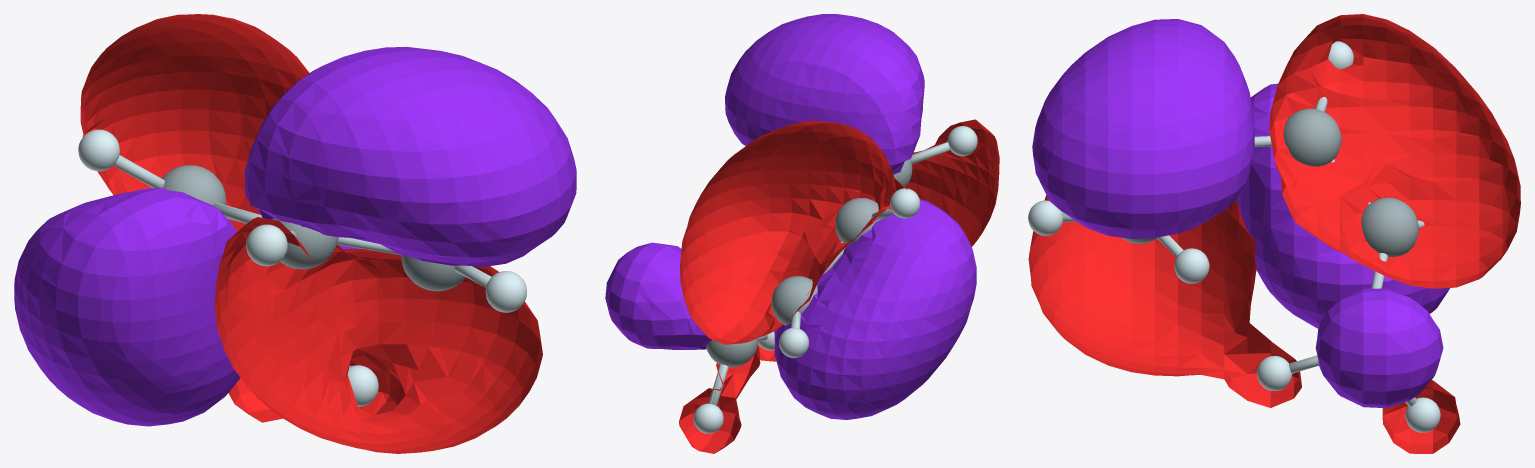
3 renders of one model, left to right at view 1: azimuth 30°, elevation 25°; view 2: azimuth 150°, elevation 25°; view 3: azimuth 270°, elevation 25°, orthographic. The views are drawn at different scales.
Visible parts, largest first — view 1: Renderer Node; view 2: Renderer Node; view 3: Renderer Node.
Boxes of the visible parts, box(x1,y1,x2,y2) form: Renderer Node: box(14, 14, 576, 453); Renderer Node: box(605, 14, 999, 453); Renderer Node: box(1028, 14, 1520, 453).
Bounding box in the file's own units: 4.95 × 5.02 × 5.56.
